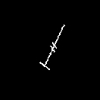treble_crochet: (40, 25, 64, 69)
